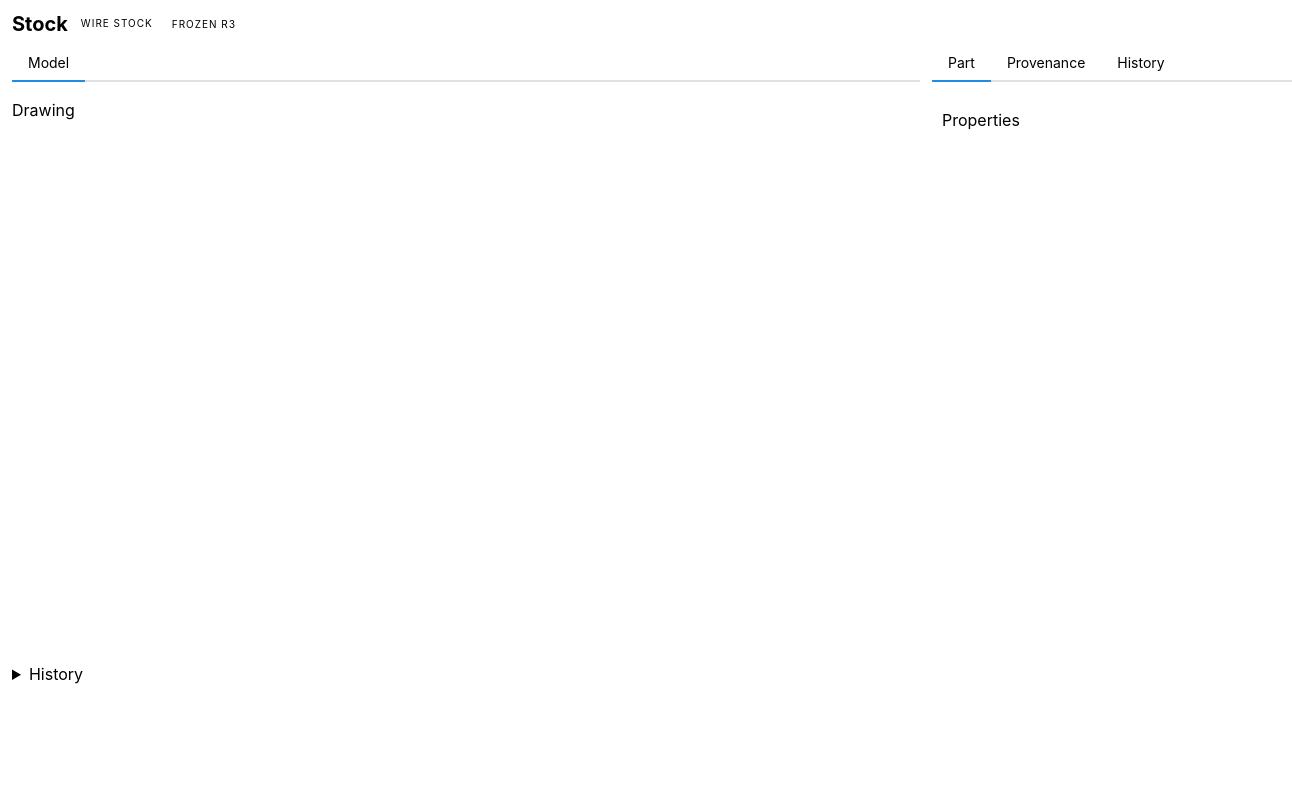
Test: shared frame and versions disclosure read record history only when explicitly opened and active
Click the tab "History" at (1141, 64), box x1=1101 y1=46 x2=1181 y2=82
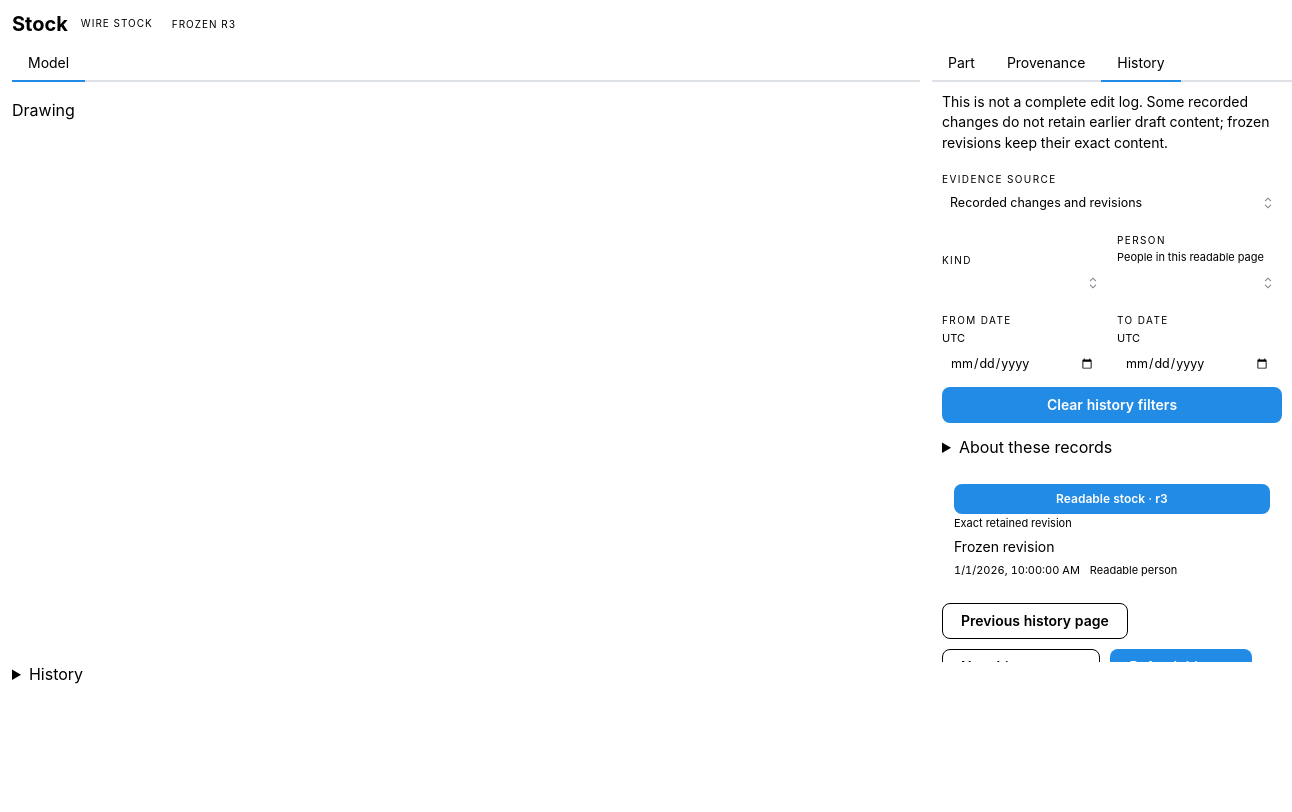
Expected: the list named "Record history" is shown, x1=942 y1=472 x2=1282 y2=591
